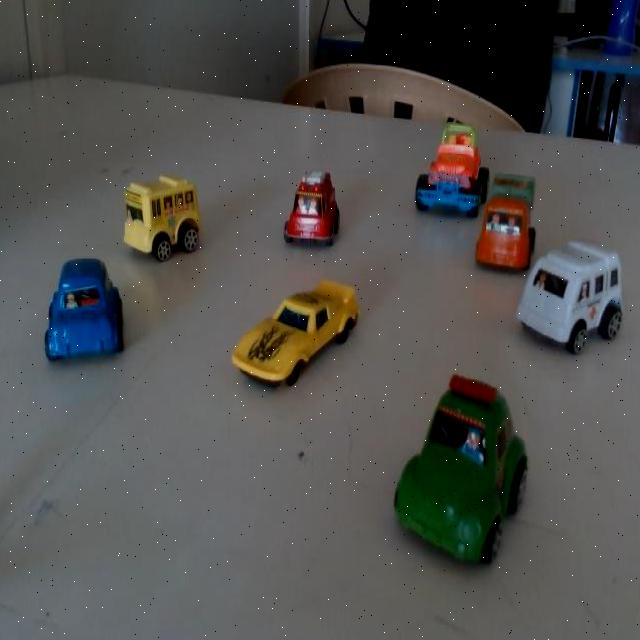car: (398, 380, 542, 552), (511, 224, 631, 372), (232, 272, 366, 394), (40, 257, 124, 366), (403, 114, 486, 219), (127, 176, 210, 272), (282, 161, 352, 261), (476, 165, 539, 275)
